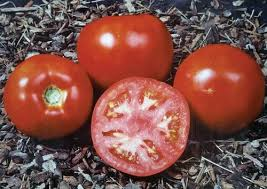tomato: (164, 40, 267, 134), (7, 53, 87, 139), (73, 8, 174, 75)
